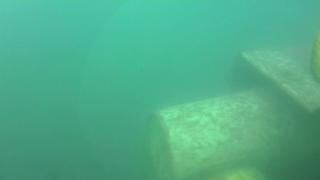pipe: (145, 86, 296, 180), (189, 164, 265, 180), (311, 26, 320, 85)
station: (237, 48, 320, 180)
